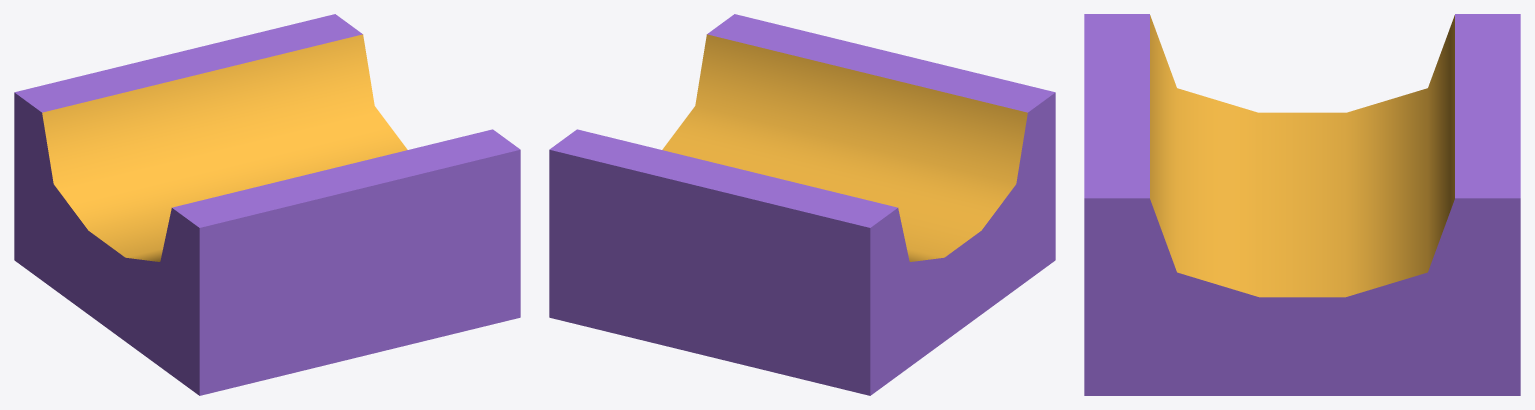
The model's file is straight-col.glb.
3 views of the same model, side by side, from view 1: azimuth 30°, elevation 25°; view 2: azimuth 150°, elevation 25°; view 3: azimuth 270°, elevation 25° (orthographic). The views are drawn at different scales.
Parts seen in each view (by area): view 1: straight-col; view 2: straight-col; view 3: straight-col.
Boxes of the visible parts, bbox=[...] form: straight-col: bbox=[14, 14, 520, 395]; straight-col: bbox=[549, 14, 1055, 395]; straight-col: bbox=[1084, 14, 1520, 395].
Bounding box in the file's own units: 1 × 0.5 × 1.
1 material, 1 textured.
